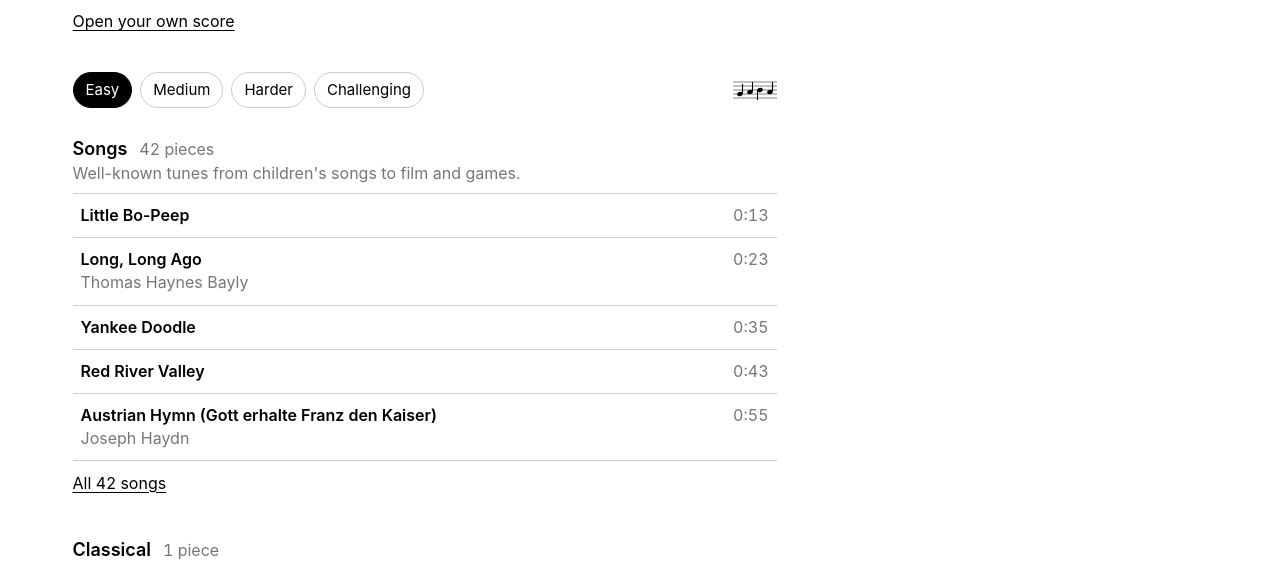
Test case: LibraryView: a shelf opened (shelves spec 4.2) › replaces the shelves with that one shelf: All styles, its name and count, its rows by collection
Click the button "All 42 songs" at (119, 483), box [72,461,166,505]
(page scrolled)
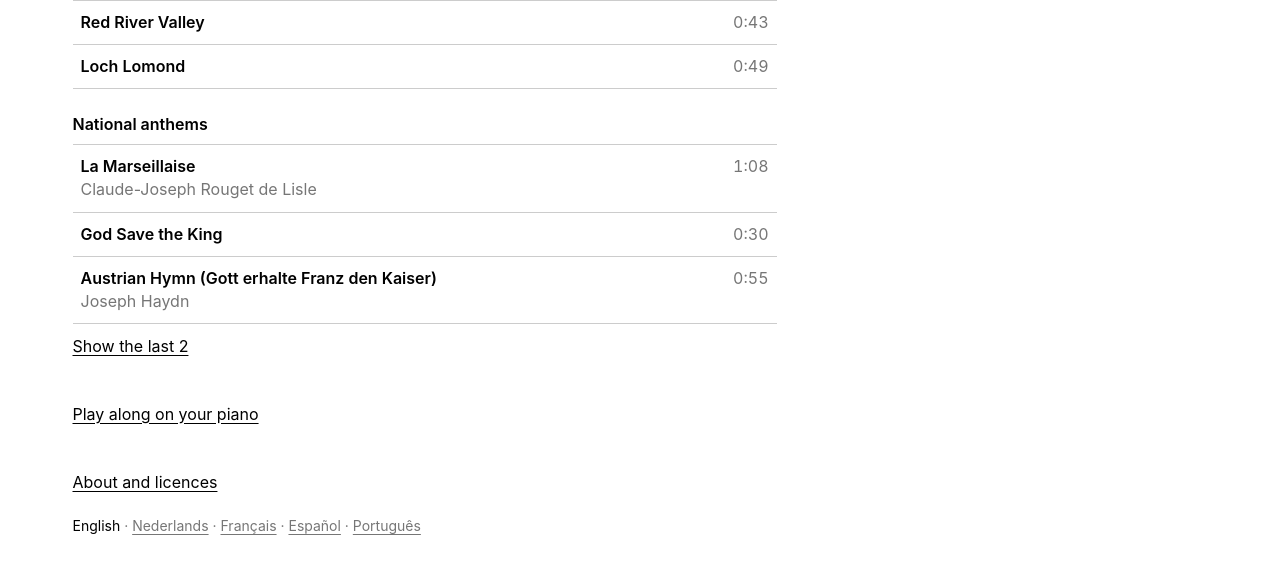
Expected: the button "Show the last 2" is shown, [72,324,188,368]
